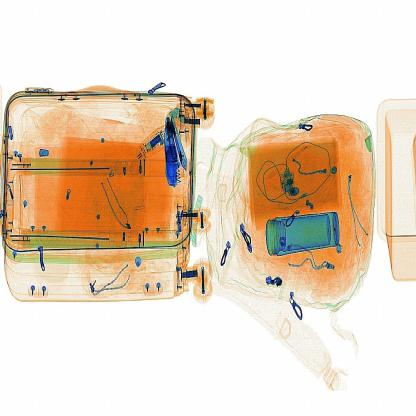scissors: (164, 136, 192, 200)
